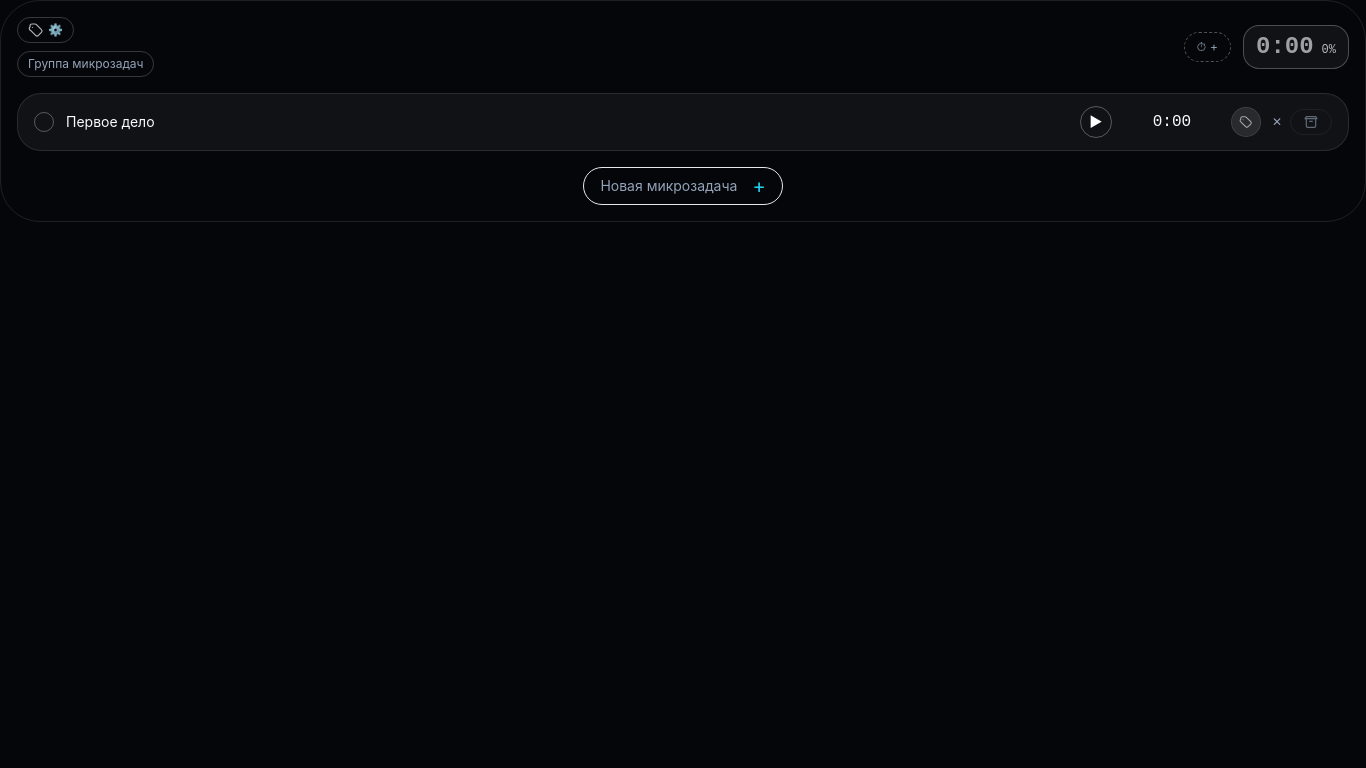
Micro task taxonomy › shows auto categories, запрещает переименование, но позволяет выбрать цвет
What coordinates should you click on to do the following:
click the button named "Управление тегами и категориями"
I would click on:
 (46, 30)
Its box is [17, 17, 74, 43].
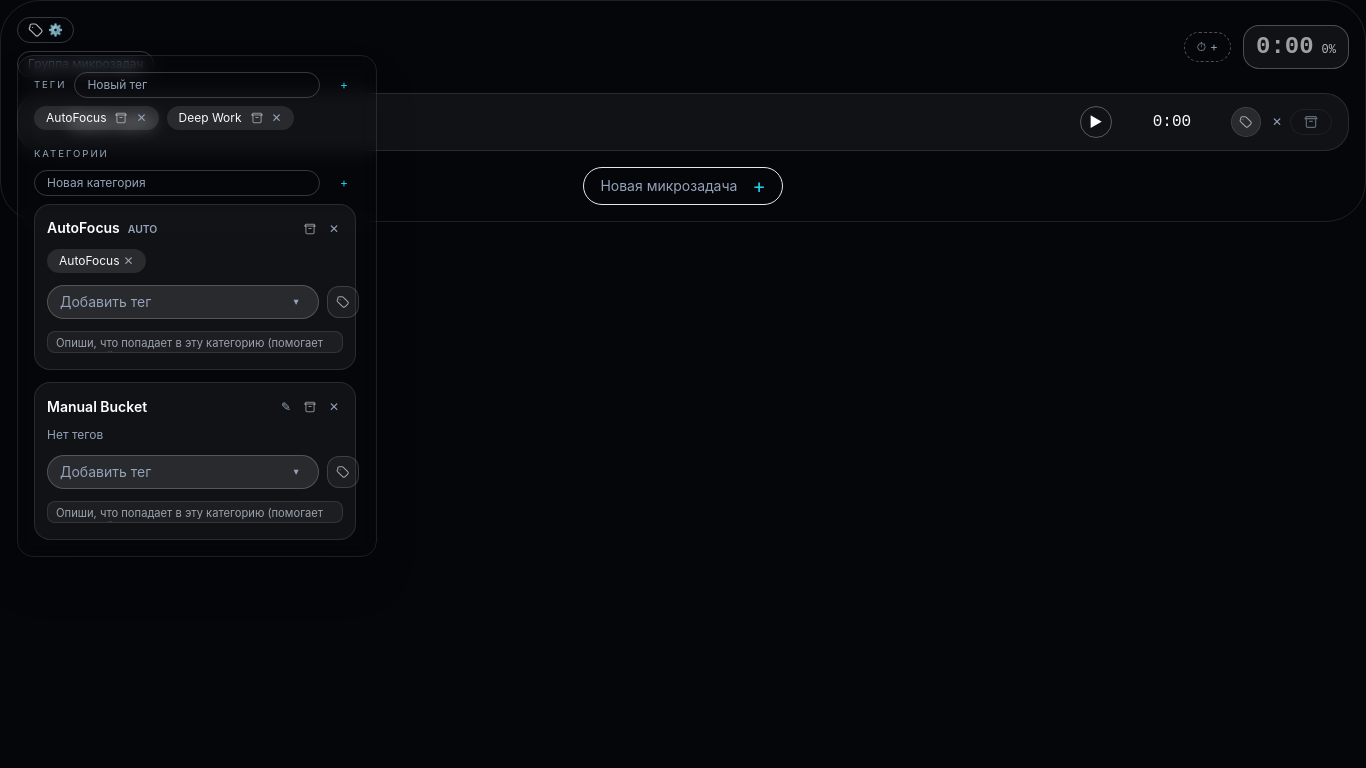
Check: the element with test id "taxonomy-manager" is shown, box [17, 55, 377, 557]
Check: the element with test id "category-card-cat-auto" is shown, box [34, 204, 356, 370]
Check: the 1st button named "Выбрать цвет категории" is enabled, box [327, 286, 359, 318]
